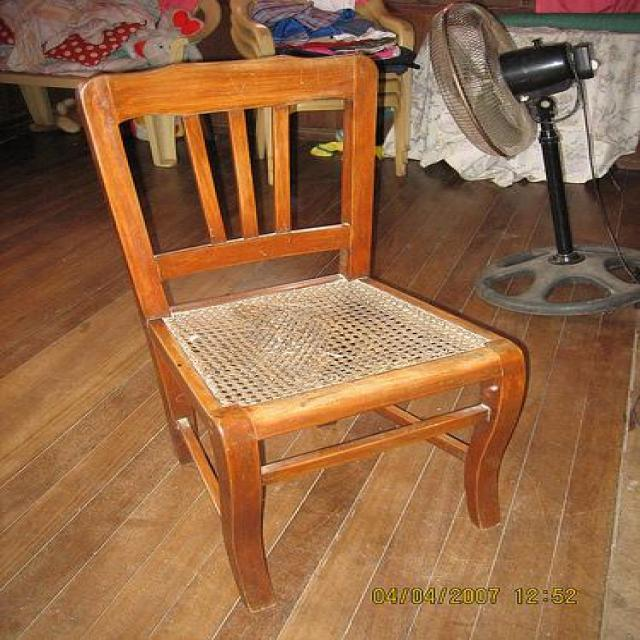chair: (75, 52, 529, 612)
